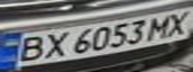0: (90, 24, 115, 52)
3: (124, 17, 151, 45)
5: (109, 20, 133, 48)
6: (69, 26, 97, 55)
B: (9, 34, 51, 64)
M: (142, 12, 178, 42)
X: (36, 29, 72, 61), (157, 8, 193, 37)
